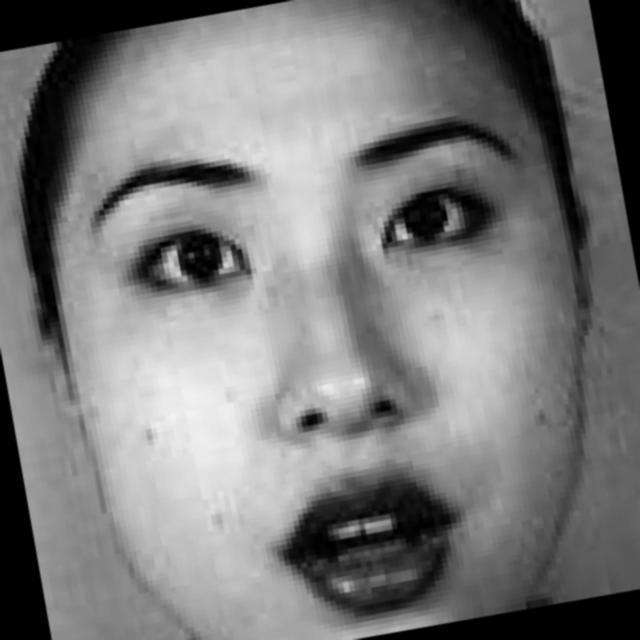surprise: (20, 3, 635, 640)
